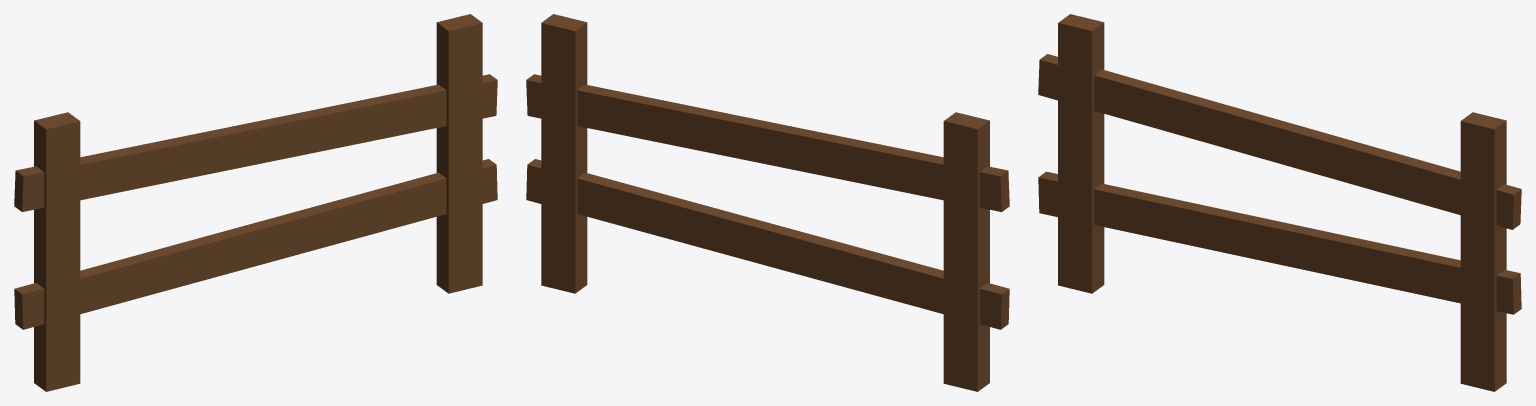
File: fence_3.fbx
3 renders of one model, left to right at view 1: azimuth 30°, elevation 25°; view 2: azimuth 150°, elevation 25°; view 3: azimuth 330°, elevation 25°, orthographic.
Visible parts, largest first — view 1: fence 3; view 2: fence 3; view 3: fence 3.
Part boxes in pixels (x1=…): fence 3: x1=14, y1=14, x2=497, y2=391; fence 3: x1=526, y1=14, x2=1009, y2=391; fence 3: x1=1038, y1=14, x2=1521, y2=391.
Bounding box in the file's own units: 379 × 200 × 16.77.
